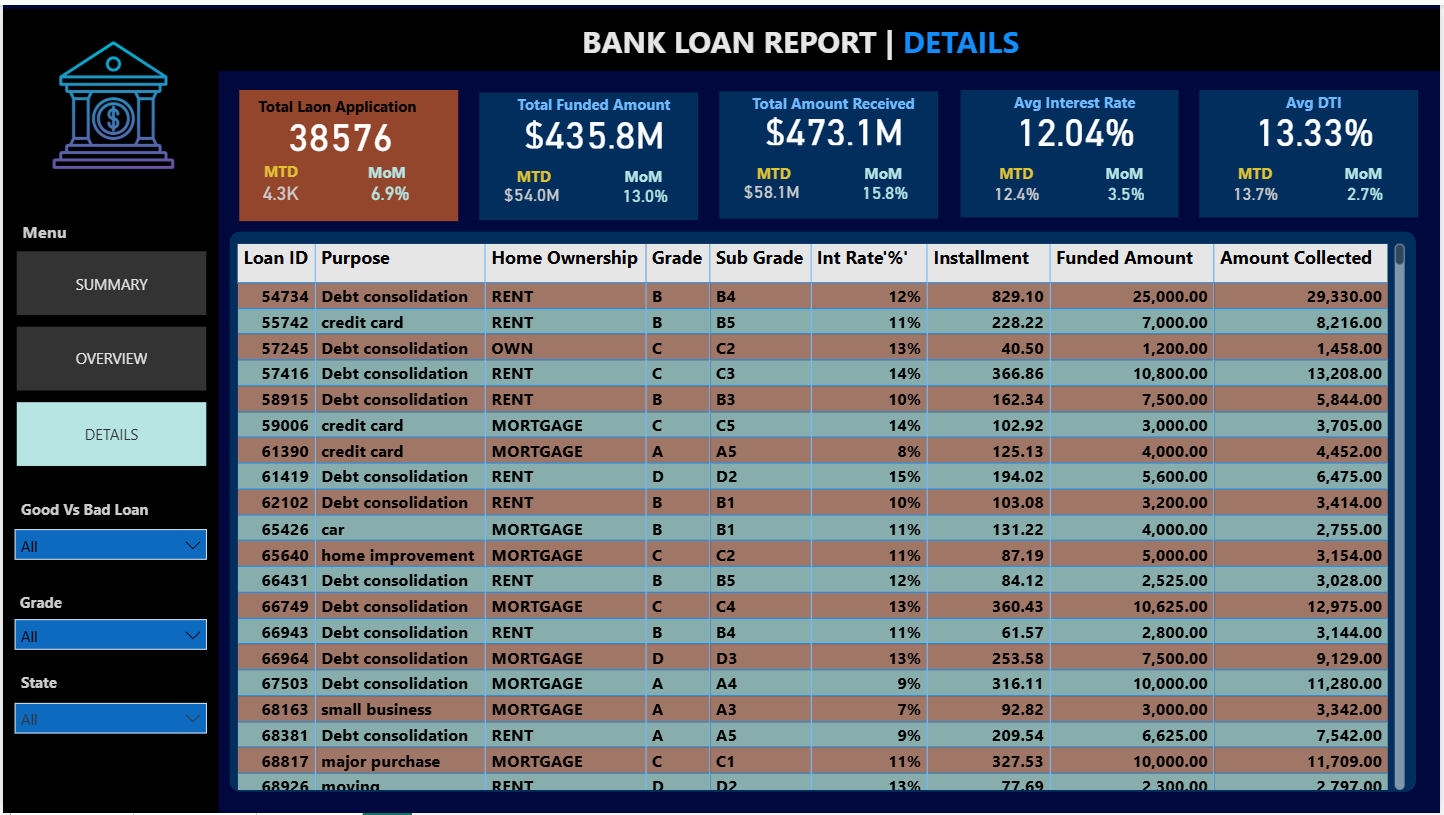

Layout of this report page (visuals, bound fields, positions):
{"tool":"powerbi","page":{"name":"DETAILS","canvas":[1280,720],"ordinal":2},"visuals":[{"type":"group","id":"g1","title":"Group 3","box":[423.6,75.1,195.4,117],"z":0,"group":"g14"},{"type":"shape","box":[210.1,76.3,195,117],"z":0,"group":"g16"},{"type":"shape","box":[851.9,76.3,194.2,113.5],"z":0,"group":"g8"},{"type":"shape","box":[1065.5,76.3,195,113.5],"z":0,"group":"g15"},{"type":"shape","box":[637.2,77.4,195,113.5],"z":0,"group":"g2"},{"type":"shape","box":[423.6,78.7,195,113.5],"z":0,"group":"g1"},{"type":"card","fields":{"Values":["Measure.MTD For Amount"]},"box":[653.2,150.6,62.7,34.4],"z":0,"group":"g4"},{"type":"card","fields":{"Values":["Measure.MTD For Int Rate"]},"box":[870.3,151.4,62.7,35.1],"z":0,"group":"g5"},{"type":"card","fields":{"Values":["Measure.MTD For DTI"]},"box":[1084.4,151.4,63,35.1],"z":0,"group":"g6"},{"type":"card","fields":{"Values":["bank_loan_db bank_loan.MTD For Applications"]},"box":[220,151.8,54.3,33.8],"z":0,"group":"g3"},{"type":"card","fields":{"Values":["Measure.MTD For Fund"]},"box":[439.7,153.4,63,35.1],"z":0,"group":"g7"},{"type":"card","fields":{"Values":["Measure.MoM For Application"]},"box":[317.6,154.2,53.1,29],"z":0,"group":"g9"},{"type":"card","fields":{"Values":["Measure.MoM For Amount"]},"box":[758.6,154.7,53.1,27.5],"z":0,"group":"g10"},{"type":"card","fields":{"Values":["Measure.MoM For Int Rate"]},"box":[973.3,155.1,53.1,28.1],"z":0,"group":"g11"},{"type":"card","fields":{"Values":["Measure.MoM For DTI"]},"box":[1187.4,155.1,53.3,28.1],"z":0,"group":"g12"},{"type":"card","fields":{"Values":["Measure.MoM For Fund"]},"box":[545.4,157.5,53.3,28.1],"z":0,"group":"g13"},{"type":"shape","box":[201.5,201.5,1057,499.5],"z":0},{"type":"shape","box":[0,3.6,1280,55.5],"z":1000},{"type":"group","id":"g2","title":"Group 3","box":[637.2,73.9,195.4,117],"z":1000,"group":"g14"},{"type":"group","id":"g3","title":"Group 1","box":[220,134.2,54.3,51.4],"z":1000,"group":"g16"},{"type":"textbox","box":[220,134.2,54.3,30.2],"z":1000,"group":"g3"},{"type":"textbox","box":[310.4,135.4,62.7,37.4],"z":1000,"group":"g9"},{"type":"textbox","box":[751.7,135.8,62.7,35.5],"z":1000,"group":"g10"},{"type":"textbox","box":[966.4,135.8,62.7,36.3],"z":1000,"group":"g11"},{"type":"textbox","box":[1180.5,135.8,63,36.3],"z":1000,"group":"g12"},{"type":"group","id":"g4","title":"Group 1","box":[653.2,136.1,64.3,48.9],"z":1000,"group":"g2"},{"type":"textbox","box":[656,136.1,61.5,28.7],"z":1000,"group":"g4"},{"type":"group","id":"g5","title":"Group 1","box":[870.3,136.2,62.7,50.3],"z":1000,"group":"g8"},{"type":"textbox","box":[870.6,136.2,61.5,29.2],"z":1000,"group":"g5"},{"type":"group","id":"g6","title":"Group 1","box":[1084.4,136.2,63,50.3],"z":1000,"group":"g15"},{"type":"textbox","box":[1084.4,136.2,61.8,29.2],"z":1000,"group":"g6"},{"type":"textbox","box":[538.5,138.2,63,36.3],"z":1000,"group":"g13"},{"type":"group","id":"g7","title":"Group 1","box":[439.7,138.6,64.5,49.9],"z":1000,"group":"g1"},{"type":"textbox","box":[442.5,138.6,61.8,29.2],"z":1000,"group":"g7"},{"type":"shape","box":[0,54.9,192,665.5],"z":2000},{"type":"group","id":"g8","title":"Group 3","box":[851.9,72.7,194.2,117],"z":2000,"group":"g14"},{"type":"group","id":"g9","title":"Group 2","box":[310.4,135.4,62.7,47.8],"z":2000,"group":"g16"},{"type":"group","id":"g10","title":"Group 2","box":[751.7,135.8,62.7,46.4],"z":2000,"group":"g2"},{"type":"group","id":"g11","title":"Group 2","box":[966.4,135.8,62.7,47.4],"z":2000,"group":"g8"},{"type":"group","id":"g12","title":"Group 2","box":[1180.5,135.8,63,47.4],"z":2000,"group":"g15"},{"type":"group","id":"g13","title":"Group 2","box":[538.5,138.2,63,47.4],"z":2000,"group":"g1"},{"type":"group","id":"g14","title":"Group 5","box":[210.1,72.7,1050.8,120.6],"z":3000},{"type":"textbox","box":[868.6,72.7,170.1,29.2],"z":3000,"group":"g8"},{"type":"group","id":"g15","title":"Group 3","box":[1065.5,72.7,195.4,117],"z":3000,"group":"g14"},{"type":"textbox","box":[1082.3,72.7,170.8,29.2],"z":3000,"group":"g15"},{"type":"textbox","box":[653.9,73.9,170.1,28.7],"z":3000,"group":"g2"},{"type":"textbox","box":[440.3,75.1,170.8,29.2],"z":3000,"group":"g1"},{"type":"textbox","box":[217.3,76.5,159.3,27.7],"z":3000,"group":"g16"},{"type":"group","id":"g16","title":"Group 4","box":[210.1,76.3,195,117],"z":4000,"group":"g14"},{"type":"card","fields":{"Values":["Measure.Avg Interst Rate"]},"box":[883.3,91.4,142.4,39.8],"z":4000,"group":"g8"},{"type":"card","fields":{"Values":["Measure.Avg DTI"]},"box":[1097,91.4,142.9,39.8],"z":4000,"group":"g15"},{"type":"card","fields":{"Values":["Measure.Total Amount Received"]},"box":[668.6,92.2,142.4,39],"z":4000,"group":"g2"},{"type":"card","fields":{"Values":["Measure.Total Funded Amount"]},"box":[455.1,93.8,142.9,39.8],"z":4000,"group":"g1"},{"type":"card","fields":{"Values":["bank_loan_db bank_loan.Total Loan Application"]},"box":[240.1,95.3,120.6,42.2],"z":4000,"group":"g16"},{"type":"tableEx","fields":{"Values":["bank_loan.id","bank_loan.purpose","bank_loan.home_ownership","bank_loan.grade","bank_loan.sub_grade","Sum(bank_loan.int_rate)","Sum(bank_loan.installment)","Sum(bank_loan.loan_amount)","Sum(bank_loan.total_payment)"]},"box":[208.7,212.3,1040,486.2],"z":4000},{"type":"slicer","fields":{"Values":["bank_loan.Good Vs Bad Loan"]},"box":[0,456.1,191.7,48.6],"z":5000},{"type":"slicer","fields":{"Values":["bank_loan.grade"]},"box":[0,536.6,191.7,48.6],"z":6000},{"type":"slicer","fields":{"Values":["bank_loan.address_state"]},"box":[0,610.7,191.7,48.6],"z":7000},{"type":"textbox","box":[11.4,435.5,137,37.1],"z":8000},{"type":"textbox","box":[10.2,517.5,72.8,29.4],"z":9000},{"type":"textbox","box":[11.5,588.5,58.8,35.8],"z":10000},{"type":"textbox","box":[470.5,8.4,479,45.8],"z":11000},{"type":"image","box":[36.2,26.5,123.1,125.5],"z":12000},{"type":"textbox","box":[12.1,187,72.4,30.2],"z":13000},{"type":"pageNavigator","box":[12.1,219.6,169,193],"z":14000}]}

Visuals, with their boxes in screenshot pixels (x1, y1, x2, y2), scaled from the page's 1280x720 canvas onto the 1444x815 screenshot:
"Group 3" group: left=478, top=85, right=698, bottom=217
shape: left=237, top=86, right=457, bottom=219
shape: left=961, top=86, right=1180, bottom=215
shape: left=1202, top=86, right=1422, bottom=215
shape: left=719, top=88, right=939, bottom=216
shape: left=478, top=89, right=698, bottom=218
card - Measure.MTD For Amount: left=737, top=170, right=808, bottom=209
card - Measure.MTD For Int Rate: left=982, top=171, right=1053, bottom=211
card - Measure.MTD For DTI: left=1223, top=171, right=1294, bottom=211
card - bank_loan_db bank_loan.MTD For Applications: left=248, top=172, right=309, bottom=210
card - Measure.MTD For Fund: left=496, top=174, right=567, bottom=213
card - Measure.MoM For Application: left=358, top=175, right=418, bottom=207
card - Measure.MoM For Amount: left=856, top=175, right=916, bottom=206
card - Measure.MoM For Int Rate: left=1098, top=176, right=1158, bottom=207
card - Measure.MoM For DTI: left=1340, top=176, right=1400, bottom=207
card - Measure.MoM For Fund: left=615, top=178, right=675, bottom=210
shape: left=227, top=228, right=1420, bottom=793
shape: left=0, top=4, right=1443, bottom=67
"Group 3" group: left=719, top=84, right=939, bottom=216
"Group 1" group: left=248, top=152, right=309, bottom=210
textbox: left=248, top=152, right=309, bottom=186
textbox: left=350, top=153, right=421, bottom=196
textbox: left=848, top=154, right=919, bottom=194
textbox: left=1090, top=154, right=1161, bottom=195
textbox: left=1332, top=154, right=1403, bottom=195
"Group 1" group: left=737, top=154, right=809, bottom=209
textbox: left=740, top=154, right=809, bottom=187
"Group 1" group: left=982, top=154, right=1053, bottom=211
textbox: left=982, top=154, right=1052, bottom=187
"Group 1" group: left=1223, top=154, right=1294, bottom=211
textbox: left=1223, top=154, right=1293, bottom=187
textbox: left=607, top=156, right=679, bottom=198
"Group 1" group: left=496, top=157, right=569, bottom=213
textbox: left=499, top=157, right=569, bottom=190
shape: left=0, top=62, right=217, bottom=814
"Group 3" group: left=961, top=82, right=1180, bottom=215
"Group 2" group: left=350, top=153, right=421, bottom=207
"Group 2" group: left=848, top=154, right=919, bottom=206
"Group 2" group: left=1090, top=154, right=1161, bottom=207
"Group 2" group: left=1332, top=154, right=1403, bottom=207
"Group 2" group: left=607, top=156, right=679, bottom=210
"Group 5" group: left=237, top=82, right=1422, bottom=219
textbox: left=980, top=82, right=1172, bottom=115
"Group 3" group: left=1202, top=82, right=1422, bottom=215
textbox: left=1221, top=82, right=1414, bottom=115
textbox: left=738, top=84, right=930, bottom=116
textbox: left=497, top=85, right=689, bottom=118
textbox: left=245, top=87, right=425, bottom=118
"Group 4" group: left=237, top=86, right=457, bottom=219
card - Measure.Avg Interst Rate: left=996, top=103, right=1157, bottom=149
card - Measure.Avg DTI: left=1238, top=103, right=1399, bottom=149
card - Measure.Total Amount Received: left=754, top=104, right=915, bottom=149
card - Measure.Total Funded Amount: left=513, top=106, right=675, bottom=151
card - bank_loan_db bank_loan.Total Loan Application: left=271, top=108, right=407, bottom=156
tableEx - bank_loan.id x bank_loan.purpose: left=235, top=240, right=1409, bottom=791
slicer - bank_loan.Good Vs Bad Loan: left=0, top=516, right=216, bottom=571
slicer - bank_loan.grade: left=0, top=607, right=216, bottom=662
slicer - bank_loan.address_state: left=0, top=691, right=216, bottom=746
textbox: left=13, top=493, right=167, bottom=535
textbox: left=12, top=586, right=94, bottom=619
textbox: left=13, top=666, right=79, bottom=707
textbox: left=531, top=10, right=1071, bottom=61
image: left=41, top=30, right=180, bottom=172
textbox: left=14, top=212, right=95, bottom=246
pageNavigator: left=14, top=249, right=204, bottom=467
